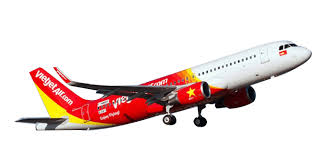maybay_dansu: (11, 32, 314, 134)
